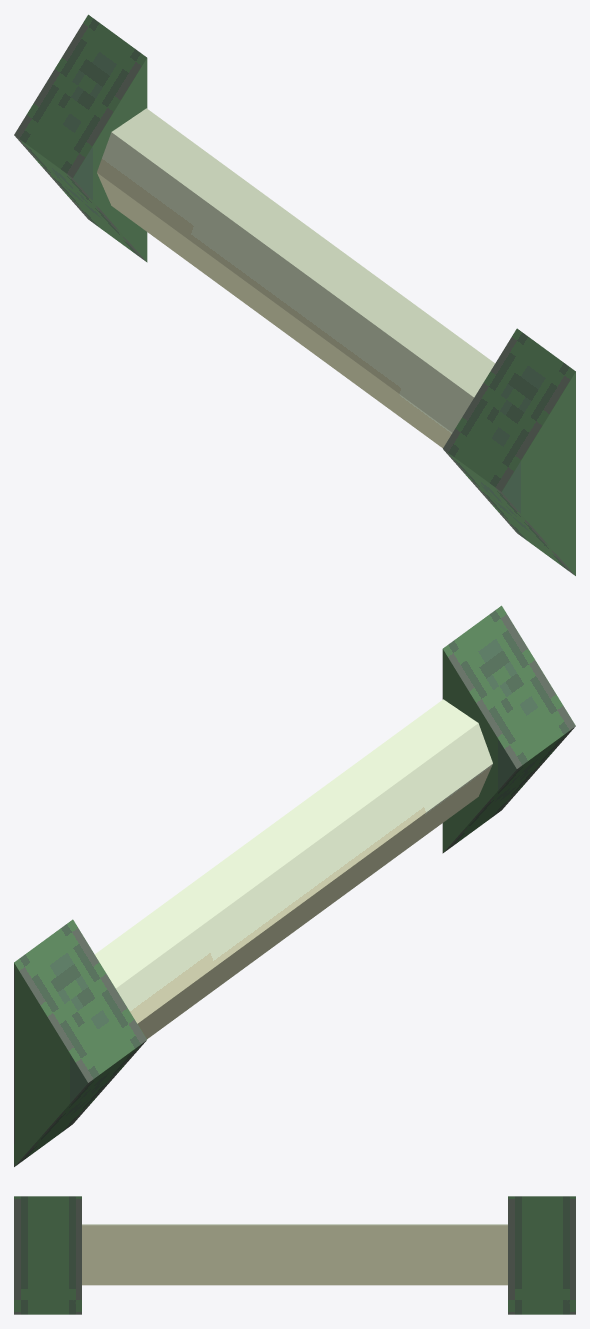
File: Wall_Light1.fbx
The picture shows the model from 3 angles, top to bottom: view 1: azimuth 30°, elevation 25°; view 2: azimuth 150°, elevation 25°; view 3: azimuth 270°, elevation 25°; orthographic projection. The views are drawn at different scales.
Visible parts, largest first — view 1: Cylinder.001, Cube.002, Cube.001; view 2: Cylinder.001, Cube.001, Cube.002; view 3: Cylinder.001, Cube.001, Cube.002.
Boxes of the visible parts, x1,y1,x2,y2 form: Cylinder.001: (97,108,494,447); Cube.002: (443,328,575,575); Cube.001: (14,14,147,262); Cylinder.001: (95,699,492,1038); Cube.001: (14,919,146,1166); Cube.002: (442,605,575,853); Cylinder.001: (82,1224,507,1285); Cube.001: (508,1196,575,1314); Cube.002: (14,1196,81,1314).
Bounding box in the file's own units: 12.34 × 32.55 × 140.
